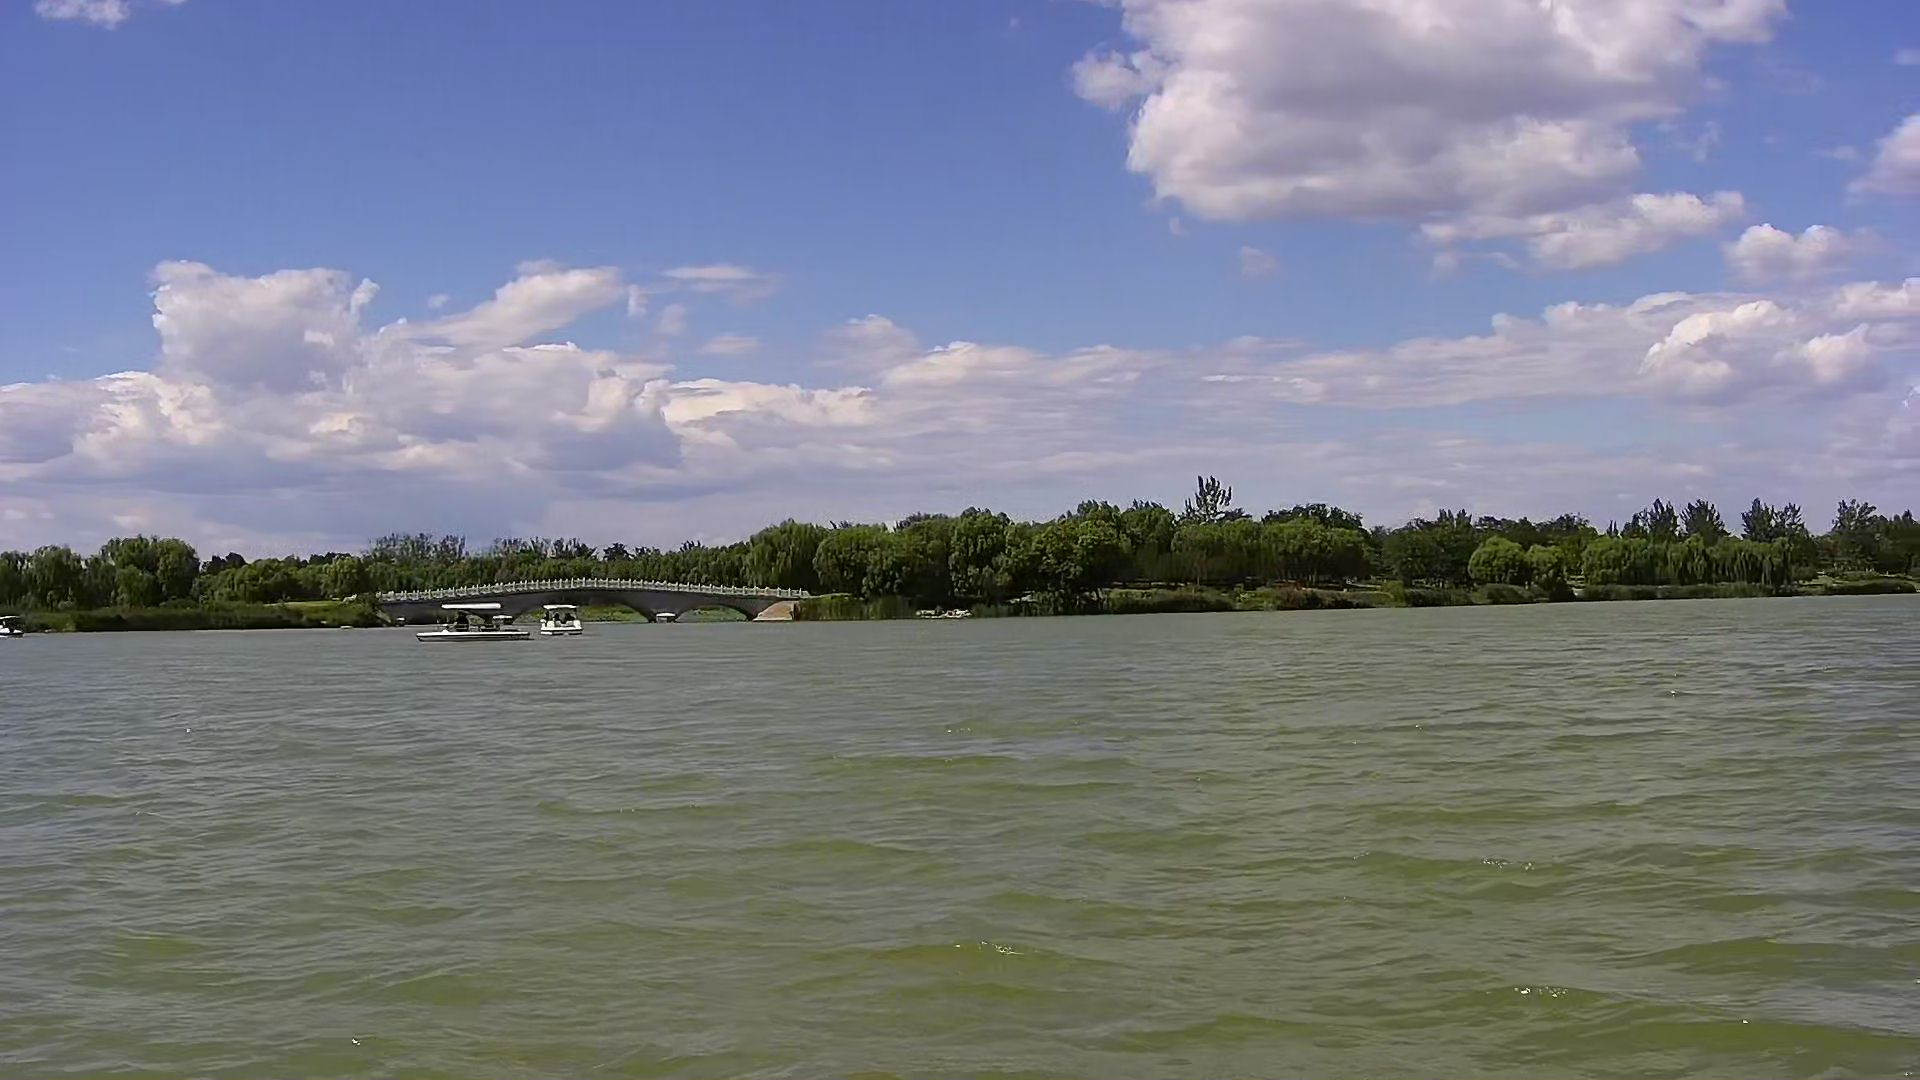boat: (421, 600, 535, 650), (535, 600, 597, 646), (3, 615, 29, 640)
bridge: (361, 570, 808, 626)
